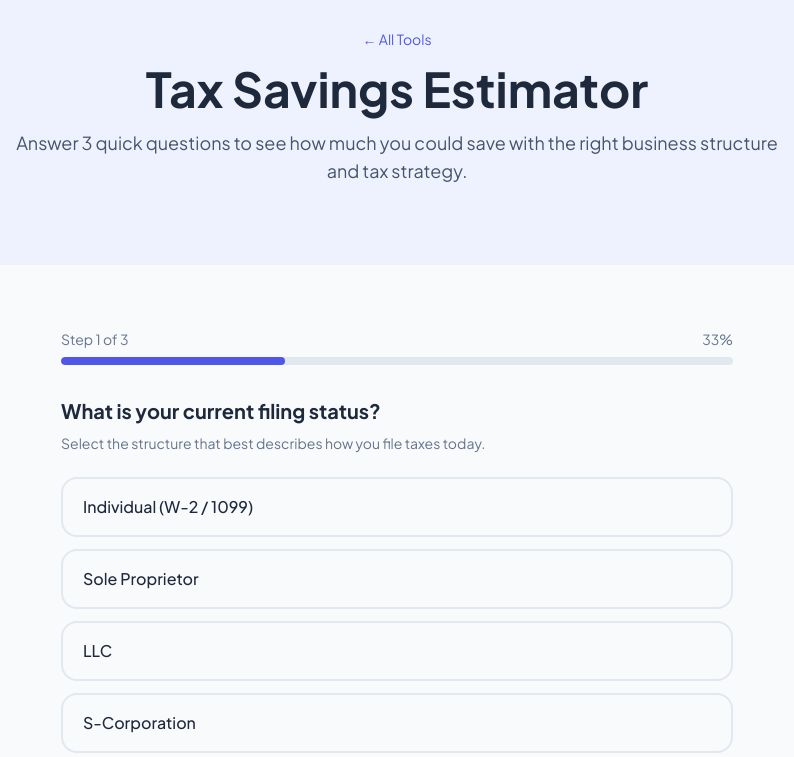
it: TaxSavingsEstimator – step navigation › completing all 3 steps shows the lead capture gate (step 4)
Click the button "LLC" at [98, 650], box [61,621,733,681]
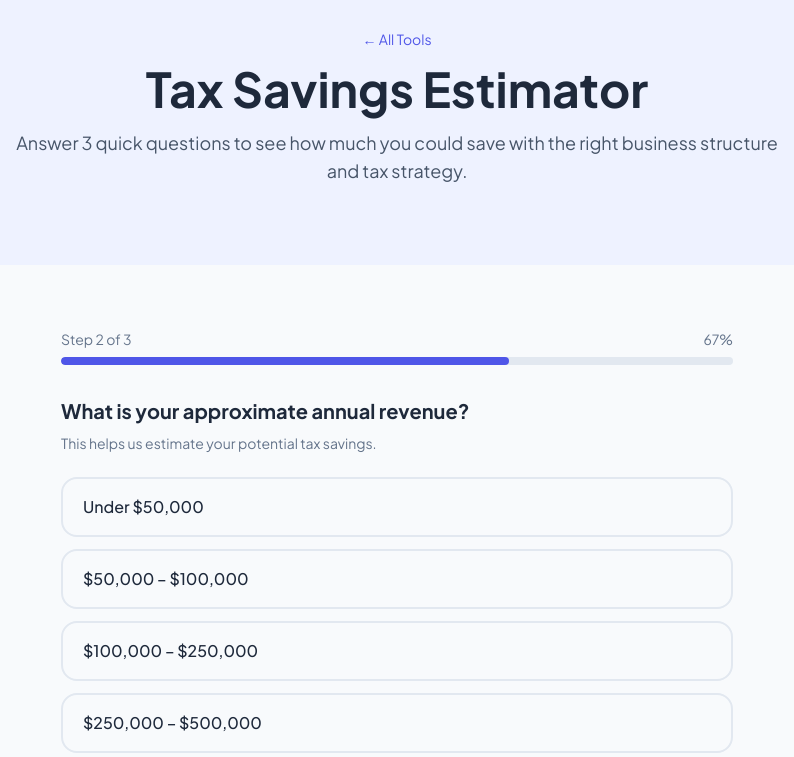
Click the button "Under $50,000" at [143, 506], box [61,477,733,537]
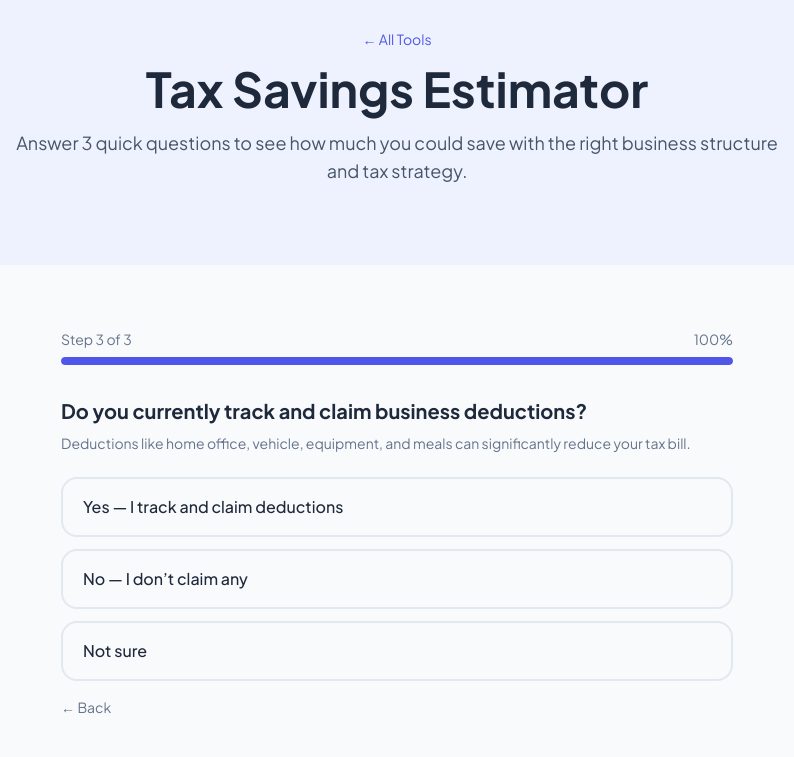
Click the button "Yes — I track and claim deductions" at [213, 506], box [61,477,733,537]
(page scrolled)
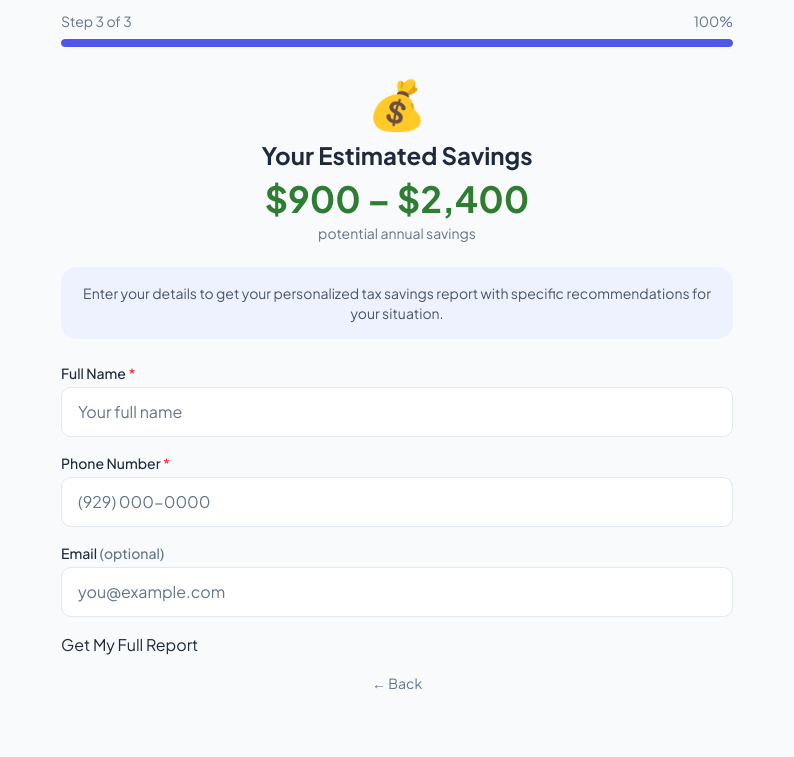
Check: the heading "Your Estimated Savings" is shown, box [262,140,532,170]
Check: the field labelled "Full Name *" is shown, box [61,387,733,437]
Check: the field labelled "Phone Number *" is shown, box [61,477,733,527]
